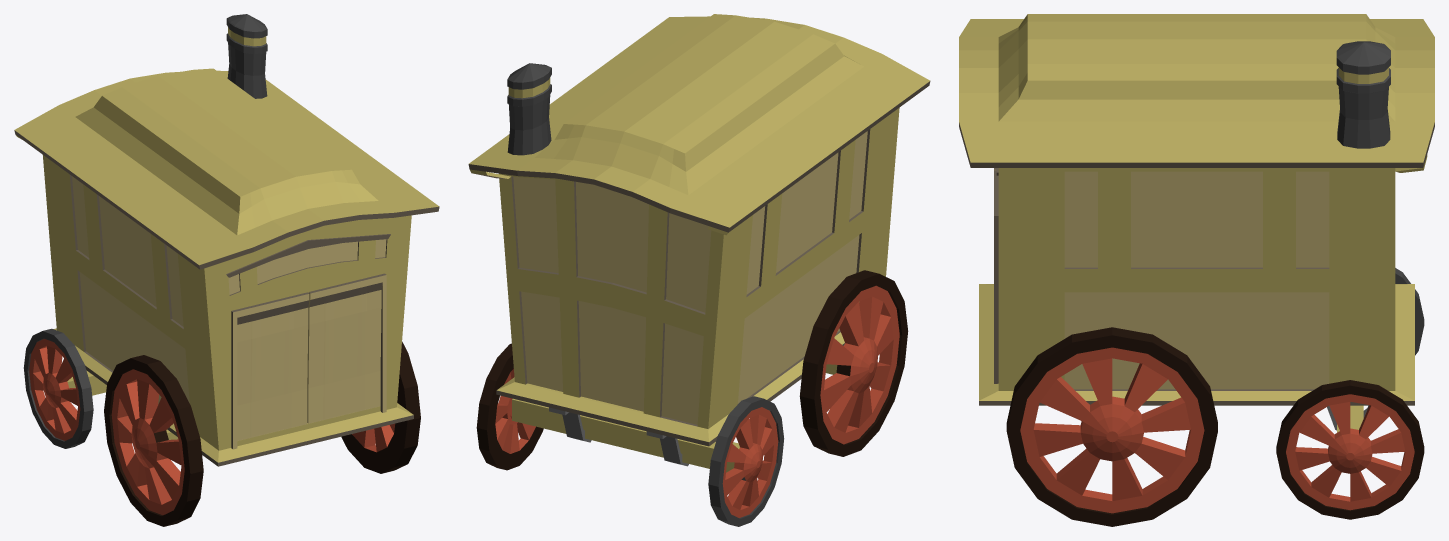
The model's file is TradeCartV5.fbx.
3 renders of one model, left to right at view 1: azimuth 30°, elevation 25°; view 2: azimuth 150°, elevation 25°; view 3: azimuth 270°, elevation 25°, orthographic. The views are drawn at different scales.
Parts seen in each view (by area): view 1: whagonBox, wheel, door.001, door, wheel.001, wheel.002; view 2: whagonBox, wheel, wheel.001, wheel.003, wheelSupport, joint.001; view 3: whagonBox, wheel.002, wheel.003, door.001, wheel.001.
Boxes of the visible parts, x1,y1,x2,y2 form: whagonBox: (14, 14, 439, 466); wheel: (104, 355, 203, 526); door.001: (307, 273, 386, 423); door: (231, 292, 309, 449); wheel.001: (23, 328, 93, 448); wheel.002: (341, 341, 420, 473); whagonBox: (468, 14, 930, 446); wheel: (799, 270, 908, 456); wheel.001: (708, 396, 784, 526); wheel.003: (476, 343, 543, 470); wheelSupport: (512, 398, 739, 472); joint.001: (549, 407, 688, 466); whagonBox: (959, 14, 1434, 405); wheel.002: (1006, 327, 1217, 526); wheel.003: (1276, 380, 1424, 519); door.001: (994, 170, 998, 383); wheel.001: (1395, 268, 1424, 355).
Bounding box in the file's own units: 334 × 488 × 450.
